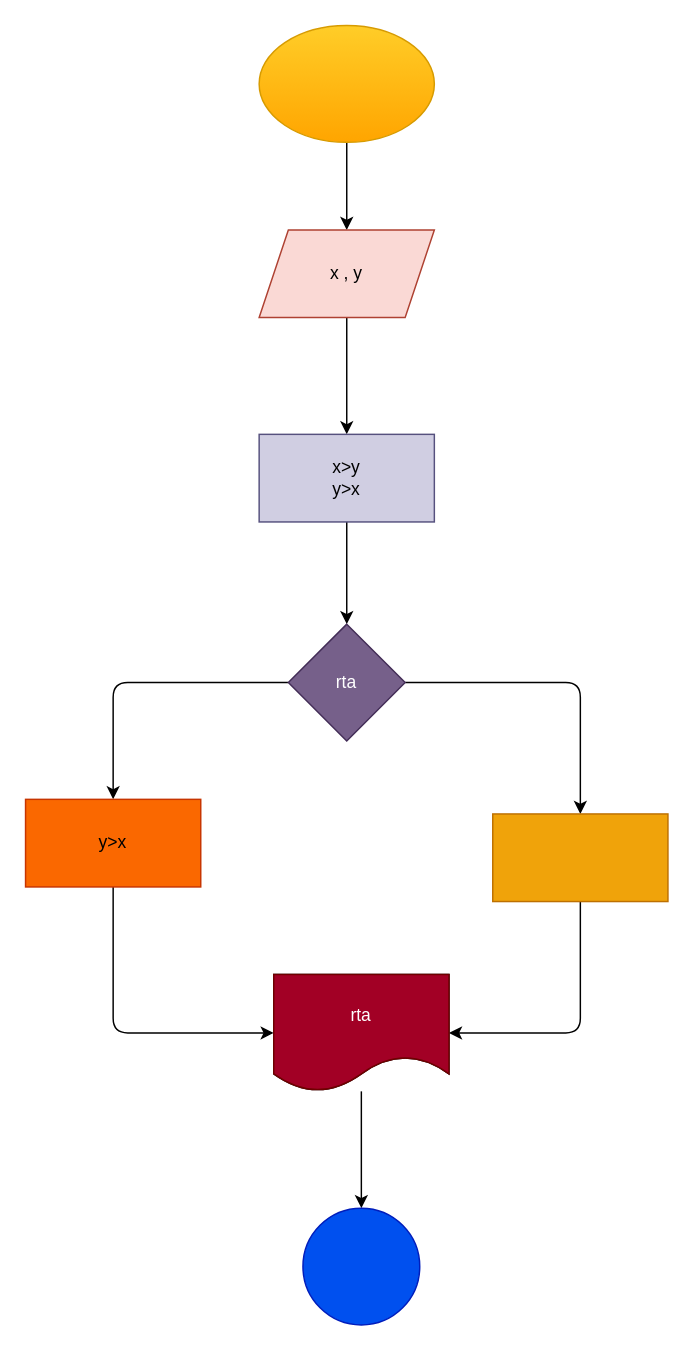
The diagram is 694 pixels wide and 1351 high, and some of its shapes have lost their labels. Each missing label, with the centre of its shape:
"fina" goes at (x=360, y=1266).
"inicio" goes at (x=346, y=83).
"x>y" goes at (x=579, y=857).
